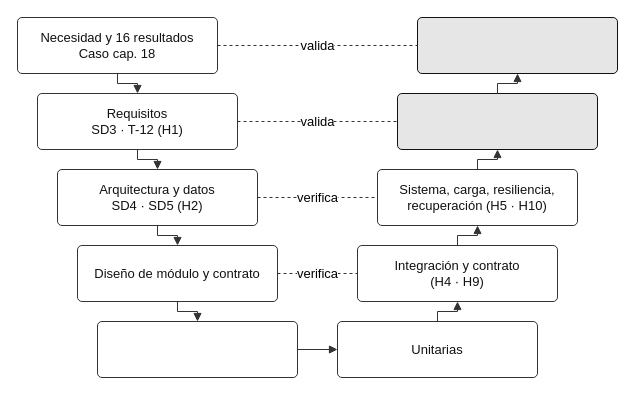
Image size: 635x395. Some labels were removed from this diagram. Here are the shapes that lost their labels. From the top down, the centre of each, then its label:
At (x=517, y=45): "Resultados: H7/H12 OTIF por tramos · envases a 12 meses".
At (x=497, y=121): "Aceptación de usuario (H5 · H10)".
At (x=197, y=349): "Código".
